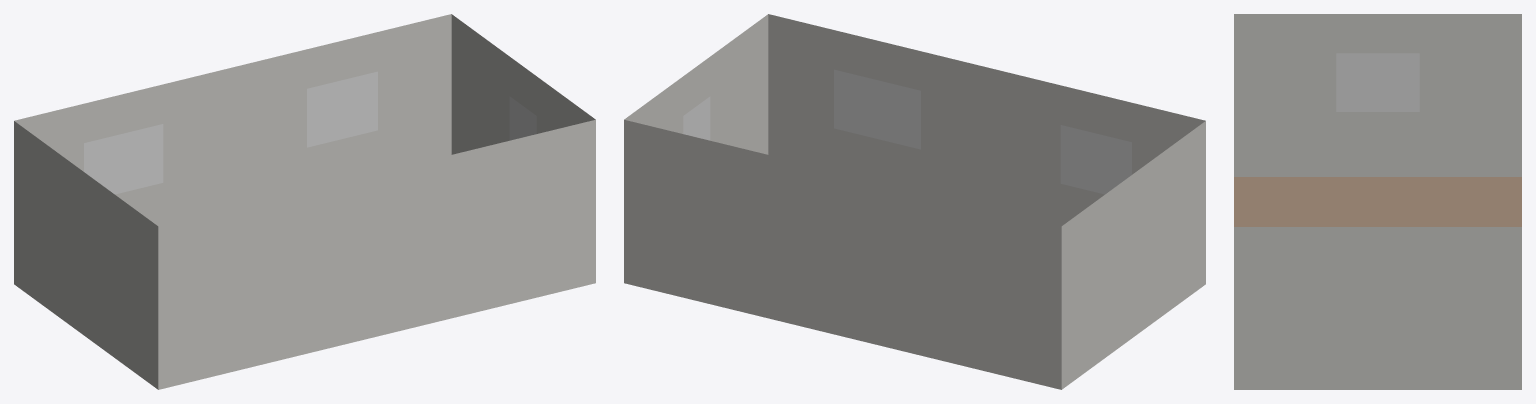
The model's file is Lernraum.fbx.
The picture shows the model from 3 angles, left to right: view 1: azimuth 30°, elevation 25°; view 2: azimuth 150°, elevation 25°; view 3: azimuth 270°, elevation 25°; orthographic projection.
Parts seen in each view (by area): view 1: Wand_Vorne, Wand_Hinten, Wand_Links, Wand_Rechts, Gemälde_03_Les_mangeurs_de_pommes_de_terre, Gemälde_04_Nacht.jpg, Gemälde_06_Vase; view 2: Wand_Hinten, Wand_Vorne, Wand_Links, Wand_Rechts, Gemälde_02_feld, Gemälde_01_Blumen, Gemälde_06_Vase; view 3: Wand_Rechts, Wand_Links, Boden, Gemälde_05_nacht.
Boxes of the visible parts, bbox=[...] form: Wand_Vorne: bbox=[158, 119, 595, 389]; Wand_Hinten: bbox=[14, 14, 451, 226]; Wand_Links: bbox=[14, 121, 158, 389]; Wand_Rechts: bbox=[451, 14, 595, 154]; Gemälde_03_Les_mangeurs_de_pommes_de_terre: bbox=[84, 124, 163, 194]; Gemälde_04_Nacht.jpg: bbox=[307, 71, 377, 147]; Gemälde_06_Vase: bbox=[509, 96, 536, 140]; Wand_Hinten: bbox=[624, 119, 1061, 389]; Wand_Vorne: bbox=[768, 14, 1205, 226]; Wand_Links: bbox=[1061, 121, 1205, 389]; Wand_Rechts: bbox=[624, 14, 768, 154]; Gemälde_02_feld: bbox=[834, 69, 920, 149]; Gemälde_01_Blumen: bbox=[1060, 125, 1131, 194]; Gemälde_06_Vase: bbox=[683, 96, 710, 140]; Wand_Rechts: bbox=[1234, 227, 1521, 389]; Wand_Links: bbox=[1234, 14, 1521, 176]; Boden: bbox=[1234, 177, 1521, 226]; Gemälde_05_nacht: bbox=[1336, 53, 1419, 111].
Bounding box in the file's own units: 700 × 250 × 400.
